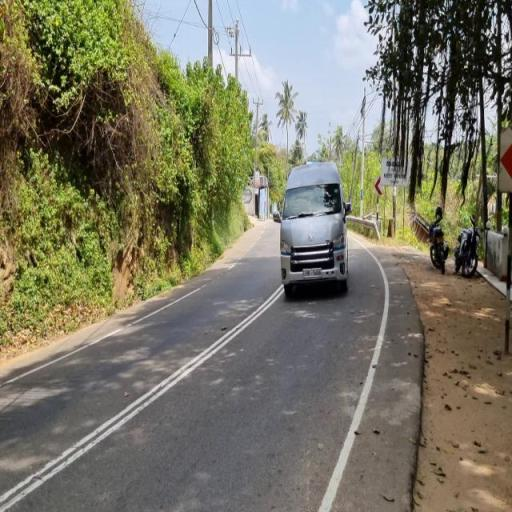double_white_line: (0, 287, 283, 512)
